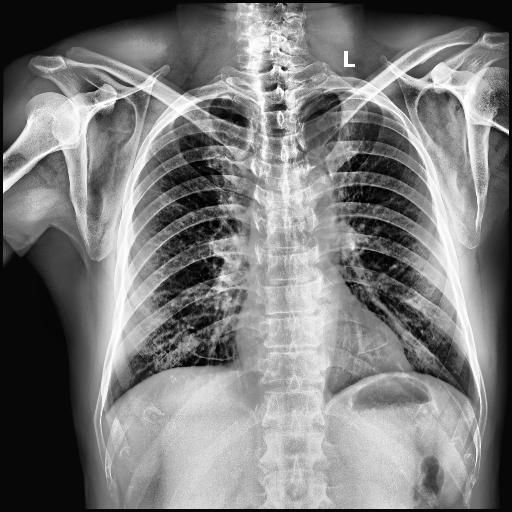0- Aortic enlargement: (280, 164, 340, 247), (282, 164, 340, 228), (284, 164, 336, 216)
